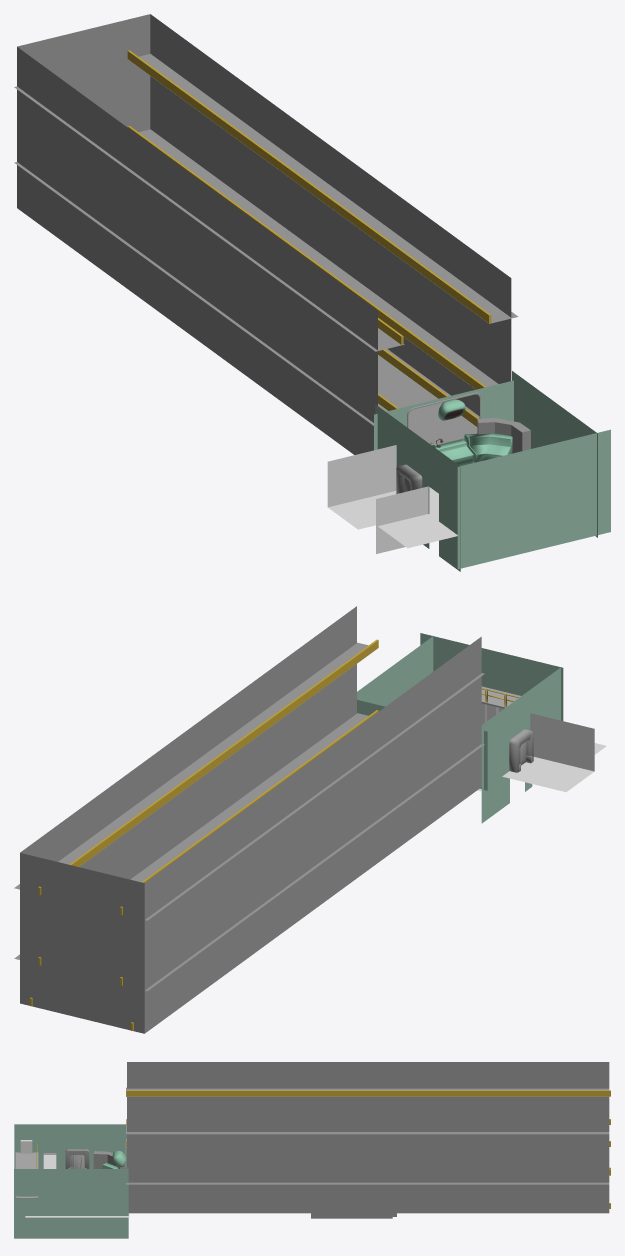
Rendered from map_blockout.glb.
The picture shows the model from 3 angles, top to bottom: view 1: azimuth 30°, elevation 25°; view 2: azimuth 150°, elevation 25°; view 3: azimuth 270°, elevation 25°; orthographic projection. The views are drawn at different scales.
Visible parts, largest first — view 1: Plane.006, back_wall, Cube.023, Plane.002, Cube.019, Plane.007, Cube.025, Plane.001, Cube.020, Plane, Plane.004, Cube.024 (+5 smaller); view 2: Plane.006, Plane.002, Plane.007, Cube.023, back_wall, Cube.025, Cube.019, Plane.001, Cube.024, Cube.021, Cube.020, Cube.031; view 3: Plane.006, Plane.001, Plane.002, Cube.026, Cube.024, Cube.023, Cube.019, Cube.031, Cube.003, Cube.027, main computer.002, Cube.018.
Part boxes in pixels (x1,y1,x2,y2): Plane.006: (17, 14, 511, 454); back_wall: (457, 429, 610, 569); Cube.023: (128, 54, 518, 323); Plane.002: (375, 404, 460, 571); Cube.019: (139, 129, 498, 388); Plane.007: (327, 445, 396, 529); Cube.025: (127, 50, 491, 323); Plane.001: (512, 371, 597, 537); Cube.020: (127, 126, 486, 389); Plane: (374, 380, 513, 450); Plane.004: (376, 486, 428, 553); Cube.024: (14, 86, 404, 351); Plane.006: (20, 606, 481, 1033); Plane.002: (481, 667, 561, 823); Plane.007: (502, 713, 594, 792); Cube.023: (14, 642, 376, 889); back_wall: (420, 633, 563, 720); Cube.025: (38, 639, 378, 895); Cube.019: (14, 713, 368, 959); Plane.001: (357, 636, 433, 706); Cube.024: (145, 673, 484, 920); Cube.021: (145, 744, 484, 991); Cube.020: (38, 710, 378, 965); Cube.031: (509, 729, 533, 772); Plane.006: (127, 1062, 609, 1213); Plane.001: (14, 1169, 128, 1238); Plane.002: (14, 1124, 126, 1168); Cube.026: (126, 1090, 610, 1096); Cube.024: (126, 1087, 609, 1096); Cube.023: (126, 1125, 609, 1134); Cube.019: (126, 1182, 609, 1184); Cube.031: (65, 1149, 89, 1168); Cube.003: (15, 1152, 38, 1198); Cube.027: (311, 1213, 392, 1218); main computer.002: (93, 1151, 126, 1168); Cube.018: (315, 1213, 396, 1216).
Bounding box in the file's own units: 19.89 × 17.24 × 70.02.
